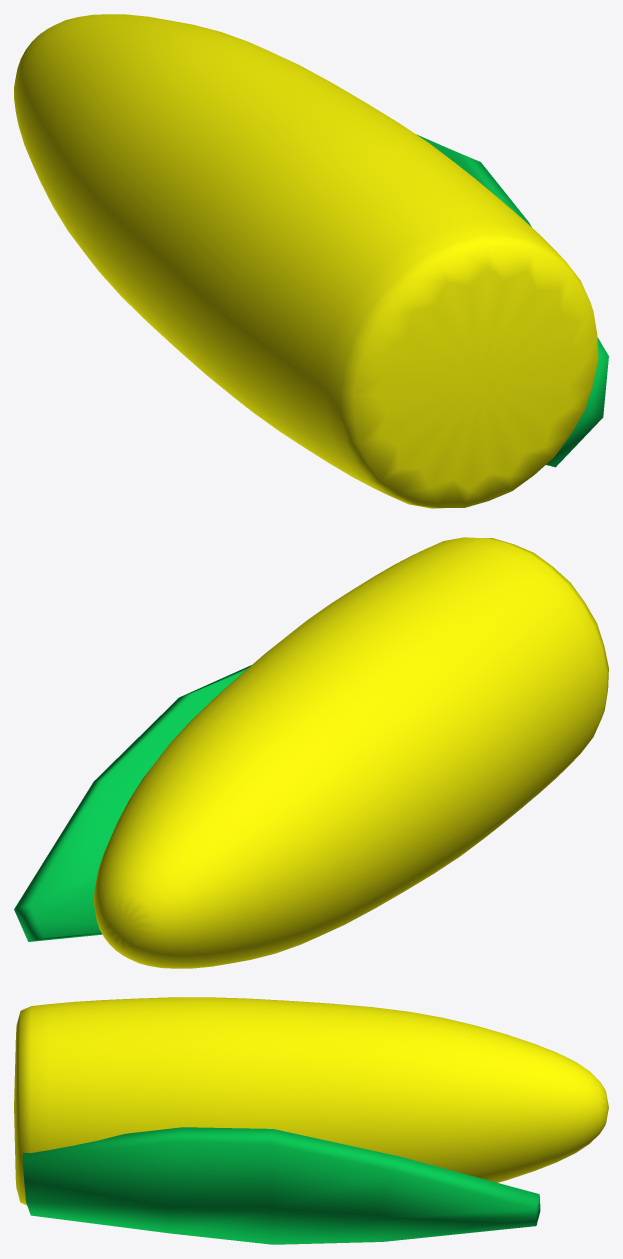
File: Corn_All.fbx
3 renders of one model, top to bottom at view 1: azimuth 30°, elevation 25°; view 2: azimuth 150°, elevation 25°; view 3: azimuth 270°, elevation 25°, orthographic. The views are drawn at different scales.
Parts seen in each view (by area): view 1: Corn_All; view 2: Corn_All; view 3: Corn_All.
Part boxes in pixels (<box>): Corn_All: <box>14,14,608,508</box>; Corn_All: <box>14,537,608,968</box>; Corn_All: <box>14,997,608,1244</box>.
Bounding box in the file's own units: 1.5 × 1.34 × 3.39.
